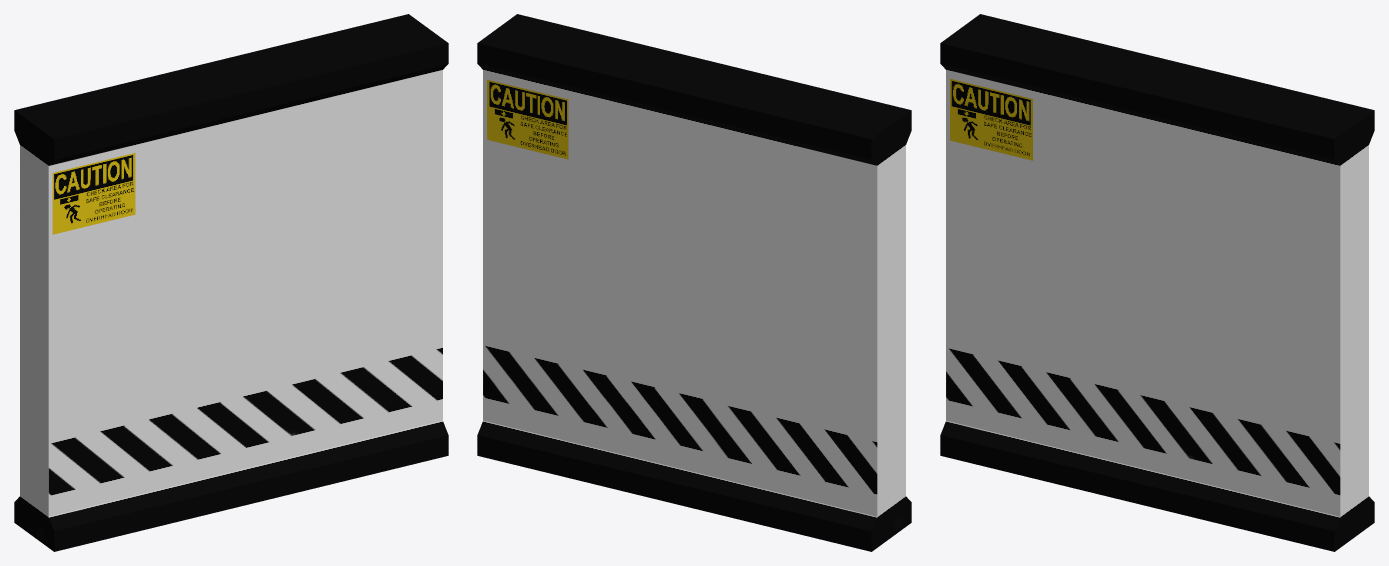
The model's file is BigDoor.fbx.
The picture shows the model from 3 angles, left to right: view 1: azimuth 30°, elevation 25°; view 2: azimuth 150°, elevation 25°; view 3: azimuth 330°, elevation 25°; orthographic projection.
Visible parts, largest first — view 1: DoorMesh; view 2: DoorMesh; view 3: DoorMesh.
Boxes of the visible parts, left/top/right/bottom form: DoorMesh: left=14, top=14, right=448, bottom=551; DoorMesh: left=477, top=14, right=911, bottom=551; DoorMesh: left=940, top=14, right=1374, bottom=551.
Bounding box in the file's own units: 0.7 × 4 × 4.
